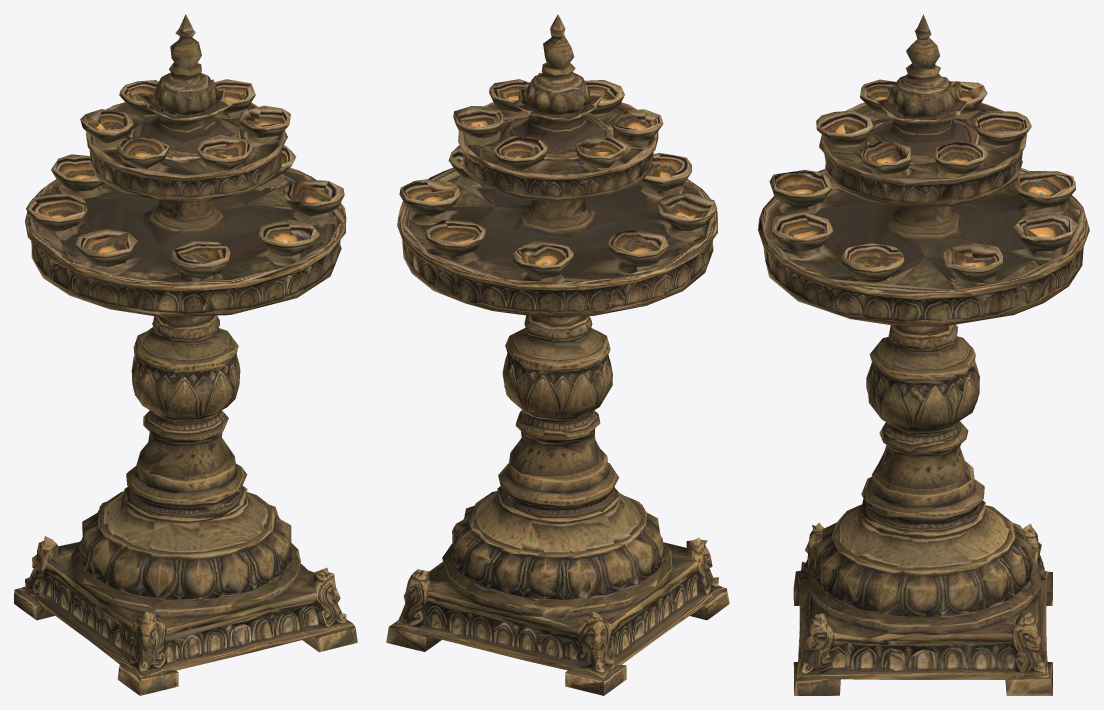
Rendered from diyo_stand.glb.
3 views of the same model, side by side, from view 1: azimuth 30°, elevation 25°; view 2: azimuth 150°, elevation 25°; view 3: azimuth 270°, elevation 25° (orthographic). The views are drawn at different scales.
Parts seen in each view (by area): view 1: diyo_stand; view 2: diyo_stand; view 3: diyo_stand.
Part boxes in pixels (<box>): diyo_stand: <box>14,14,357,695</box>; diyo_stand: <box>386,14,729,695</box>; diyo_stand: <box>758,14,1089,695</box>.
Bounding box in the file's own units: 0.552 × 1.15 × 0.5514.
1 material, 1 textured.
